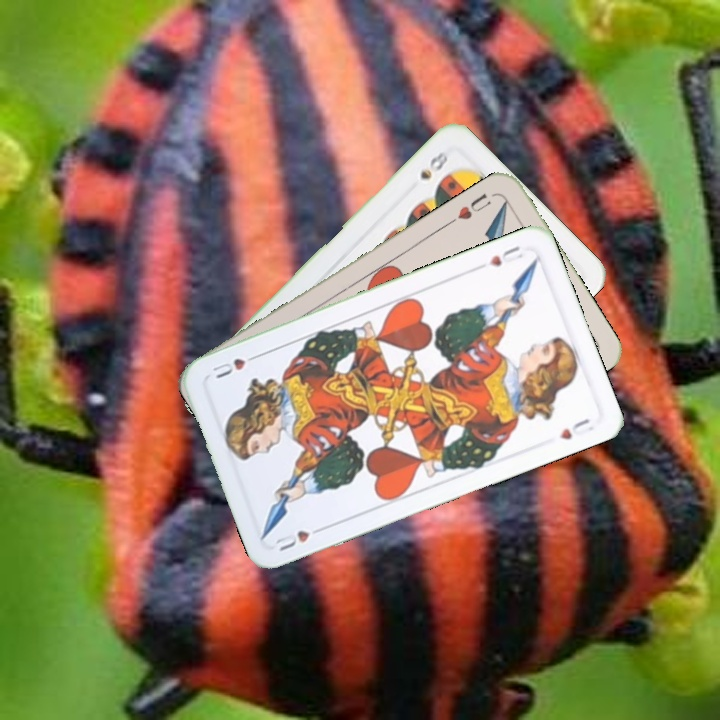HU: (271, 522, 328, 554), (445, 189, 492, 227), (485, 241, 526, 269)
S8: (415, 147, 450, 182)
